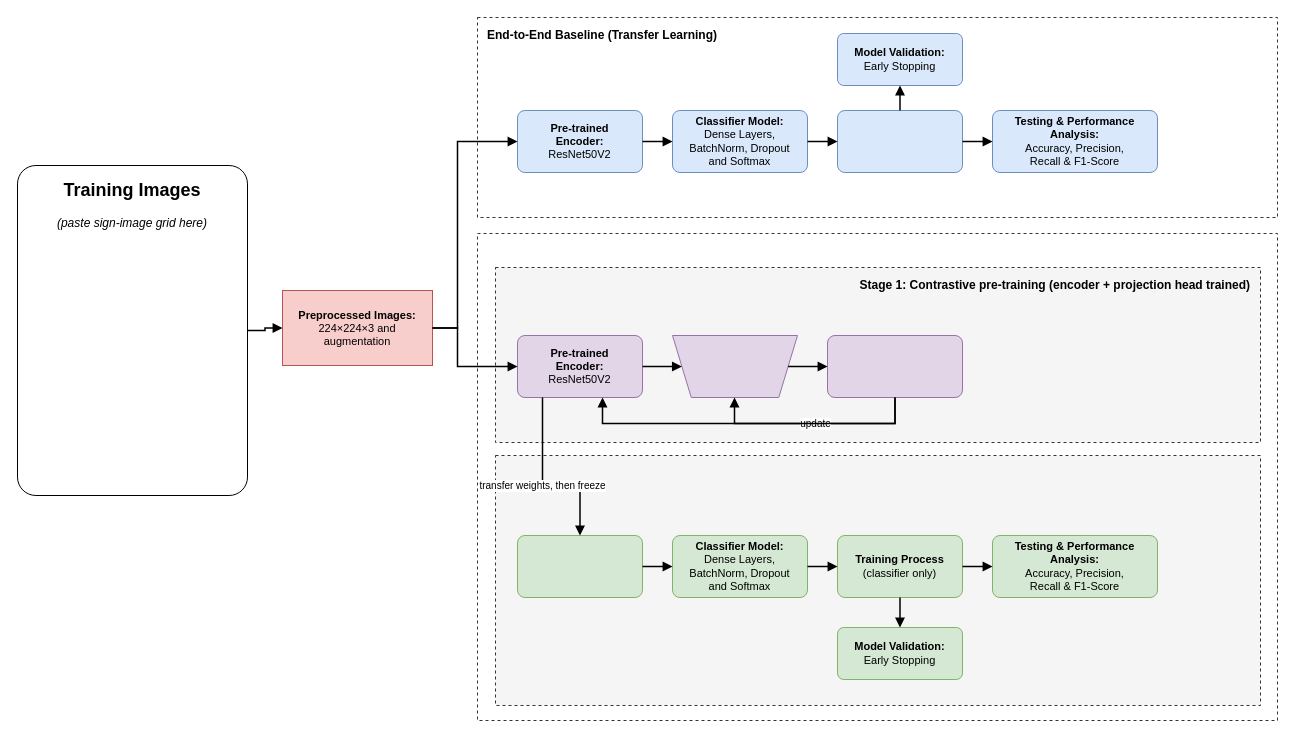
Image size: 1295x738. Some labels were removed from this diagram. Here are the shapes that lost their labels. From the top down, the box of each, then its label:
(836, 110, 962, 172): Training Process (encoder + classifier)
(672, 334, 798, 398): Projection Head
(826, 334, 962, 398): Minimising Contrastive Loss
(476, 232, 1278, 720): Two-Stage Supervised Contrastive Learning
(516, 534, 642, 598): Frozen Encoder
(494, 454, 1260, 706): Stage 2: Classifier training (encoder frozen)
